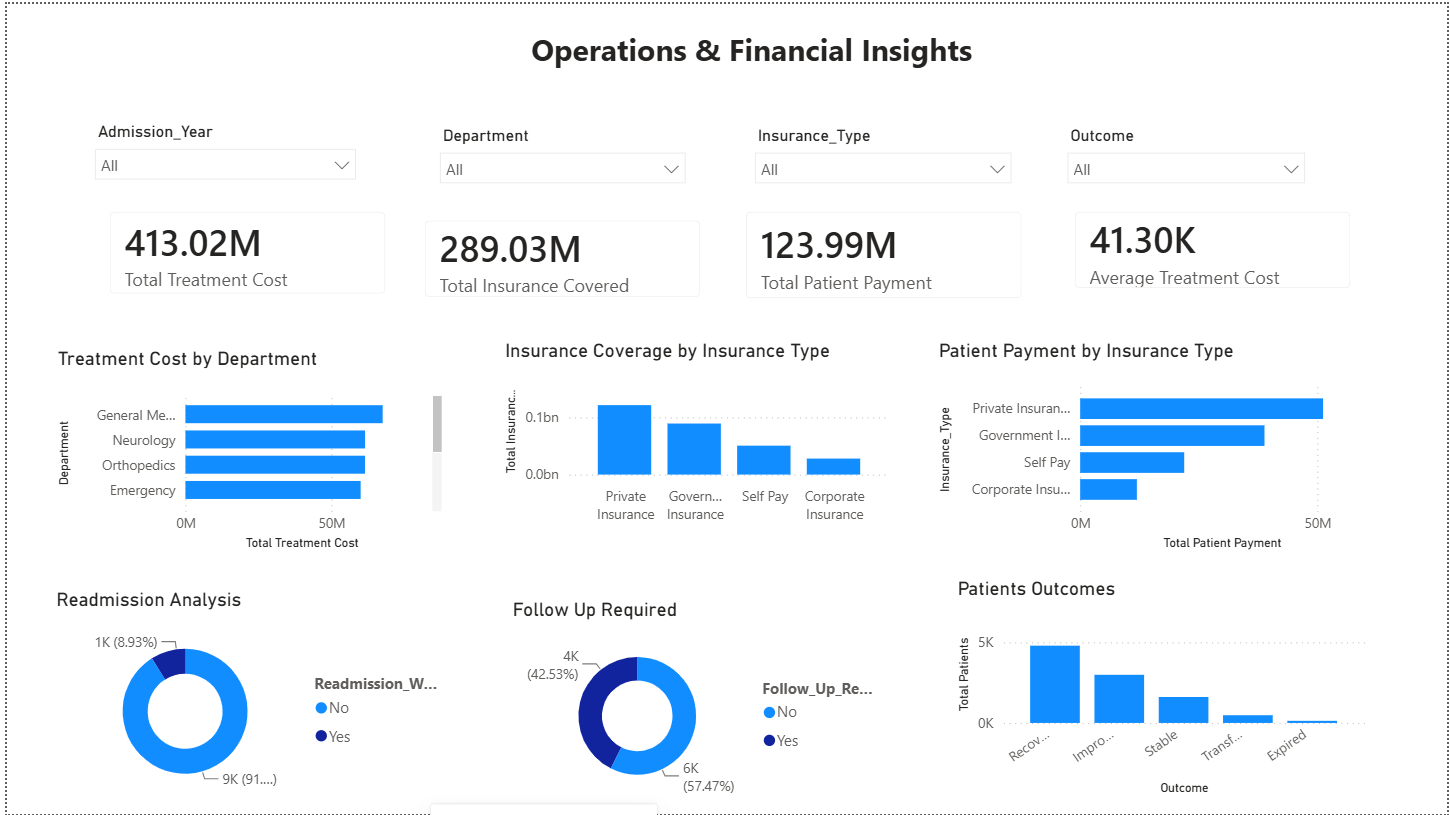

The page's visual inventory and layout, read from the dashboard file:
{"tool":"powerbi","page":{"name":"Operations & Financial Insights","canvas":[1280,720],"ordinal":2},"visuals":[{"type":"cardVisual","fields":{"Data":["healthcare_data.Total Treatment Cost"]},"box":[74.1,167.4,279.9,107],"z":0},{"type":"cardVisual","fields":{"Data":["healthcare_data.Total Insurance Covered"]},"box":[354,175.6,279.9,102.9],"z":1},{"type":"cardVisual","fields":{"Data":["healthcare_data.Total Patient Payment"]},"box":[639.5,167.4,279.9,111.1],"z":2},{"type":"cardVisual","fields":{"Data":["healthcare_data.Average Treatment Cost"]},"box":[931.7,167.4,279.9,102.9],"z":3},{"type":"clusteredBarChart","title":" Treatment Cost by Department","fields":{"Category":["healthcare_data.Department"],"Y":["healthcare_data.Total Treatment Cost"]},"box":[39.8,304.6,351.3,185.2],"z":4},{"type":"clusteredColumnChart","title":"Insurance Coverage by Insurance Type","fields":{"Y":["healthcare_data.Total Insurance Covered"],"Category":["healthcare_data.Insurance_Type"]},"box":[437.7,297.8,352.7,171.5],"z":5},{"type":"clusteredBarChart","title":"Patient Payment by Insurance Type","fields":{"Category":["healthcare_data.Insurance_Type"],"Y":["healthcare_data.Total Patient Payment"]},"box":[823.3,297.8,400.7,192.1],"z":6},{"type":"donutChart","title":" Readmission Analysis","fields":{"Category":["healthcare_data.Readmission_Within_30_Days"],"Y":["healthcare_data.Total Admissions"]},"box":[38.4,518.7,351.3,189.4],"z":7},{"type":"donutChart","title":" Follow Up Required","fields":{"Category":["healthcare_data.Follow_Up_Required"],"Y":["healthcare_data.Total Patients"]},"box":[444.6,528.3,338.9,179.8],"z":8},{"type":"columnChart","title":"Patients Outcomes","fields":{"Category":["healthcare_data.Outcome"],"Y":["healthcare_data.Total Patients"]},"box":[839.8,509.1,371.9,199],"z":9},{"type":"slicer","fields":{"Values":["healthcare_data.Admission_Year"]},"box":[67.2,100.2,252.5,64.5],"z":10},{"type":"slicer","fields":{"Values":["healthcare_data.Department"]},"box":[374.6,102.9,238.8,64.5],"z":11},{"type":"slicer","fields":{"Values":["healthcare_data.Insurance_Type"]},"box":[654.5,102.9,248.4,61.7],"z":12},{"type":"slicer","fields":{"Values":["healthcare_data.Outcome"]},"box":[931.7,102.9,231.9,61.7],"z":13},{"type":"textbox","box":[100.2,16.5,1123.8,67.2],"z":14}]}

Visuals, with their boxes in screenshot pixels (x1, y1, x2, y2), scaled from the page's 1280x720 canvas onto the 1450x815 screenshot:
cardVisual - healthcare_data.Total Treatment Cost: (84, 189, 401, 311)
cardVisual - healthcare_data.Total Insurance Covered: (401, 199, 718, 315)
cardVisual - healthcare_data.Total Patient Payment: (724, 189, 1042, 315)
cardVisual - healthcare_data.Average Treatment Cost: (1055, 189, 1373, 306)
" Treatment Cost by Department" clusteredBarChart: (45, 345, 443, 554)
"Insurance Coverage by Insurance Type" clusteredColumnChart: (496, 337, 895, 531)
"Patient Payment by Insurance Type" clusteredBarChart: (933, 337, 1387, 555)
" Readmission Analysis" donutChart: (44, 587, 441, 802)
" Follow Up Required" donutChart: (504, 598, 888, 802)
"Patients Outcomes" columnChart: (951, 576, 1373, 802)
slicer - healthcare_data.Admission_Year: (76, 113, 362, 186)
slicer - healthcare_data.Department: (424, 116, 695, 189)
slicer - healthcare_data.Insurance_Type: (741, 116, 1023, 186)
slicer - healthcare_data.Outcome: (1055, 116, 1318, 186)
textbox: (114, 19, 1387, 95)
